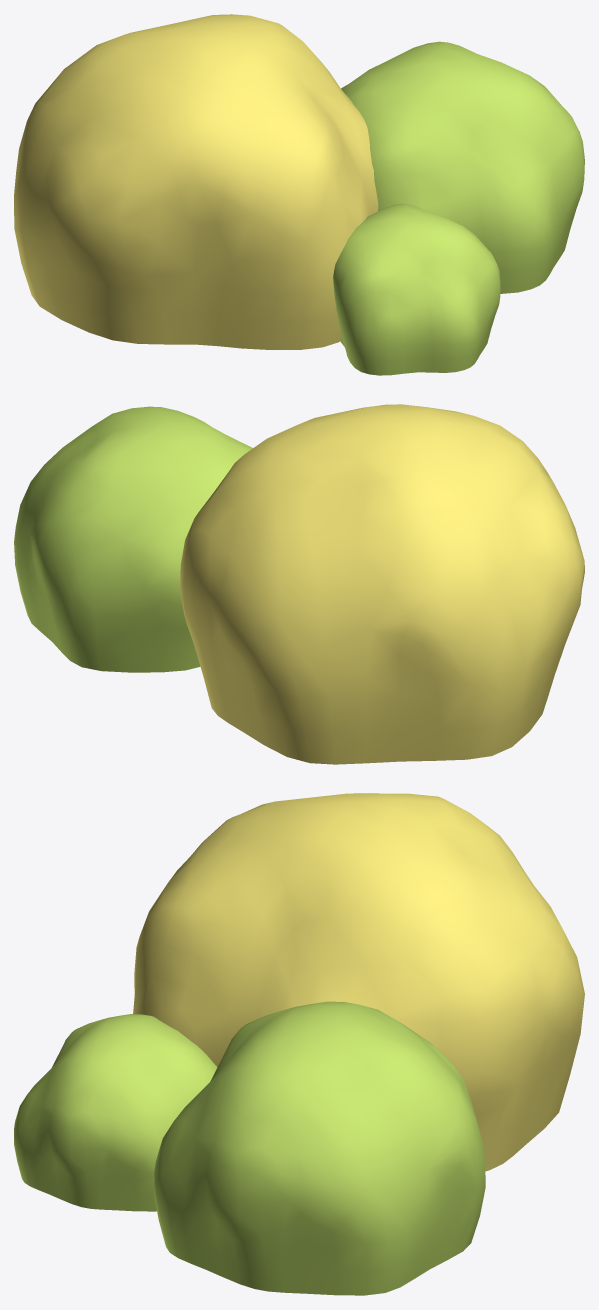
File: BushPack_A.fbx
The picture shows the model from 3 angles, top to bottom: view 1: azimuth 30°, elevation 25°; view 2: azimuth 150°, elevation 25°; view 3: azimuth 270°, elevation 25°; orthographic projection. The views are drawn at different scales.
Visible parts, largest first — view 1: BushPack_B; view 2: BushPack_B; view 3: BushPack_B.
Part boxes in pixels (left/top/right/bottom): BushPack_B: left=14, top=14, right=584, bottom=375; BushPack_B: left=14, top=404, right=584, bottom=764; BushPack_B: left=14, top=793, right=584, bottom=1295.
Size of the model in its own units: 247 by 120 by 206.
